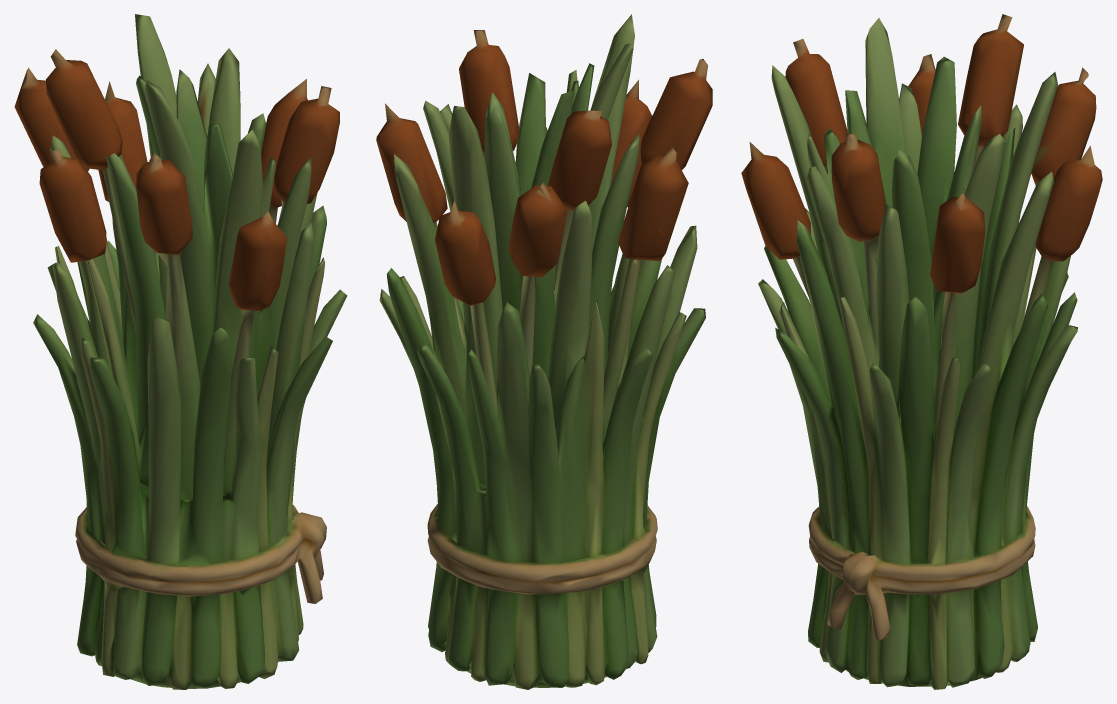
File: cattails.glb
3 renders of one model, left to right at view 1: azimuth 30°, elevation 25°; view 2: azimuth 150°, elevation 25°; view 3: azimuth 270°, elevation 25°, orthographic.
Visible parts, largest first — view 1: tripo_node_4f42858b-a627-4757-aef8-e0ced0e52fc9; view 2: tripo_node_4f42858b-a627-4757-aef8-e0ced0e52fc9; view 3: tripo_node_4f42858b-a627-4757-aef8-e0ced0e52fc9.
Boxes of the visible parts, x1,y1,x2,y2 form: tripo_node_4f42858b-a627-4757-aef8-e0ced0e52fc9: (14,14,347,689); tripo_node_4f42858b-a627-4757-aef8-e0ced0e52fc9: (376,14,712,689); tripo_node_4f42858b-a627-4757-aef8-e0ced0e52fc9: (741,14,1102,689).
Bounding box in the file's own units: 0.4984 × 1 × 0.5466.
1 material, 1 textured.
